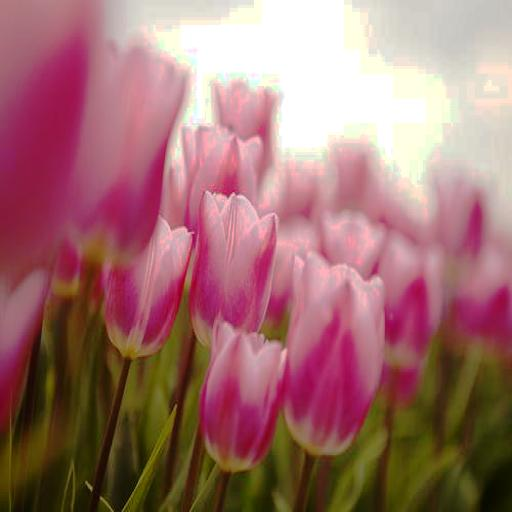tulip: (283, 249, 385, 460), (188, 189, 278, 354), (196, 320, 284, 474)
